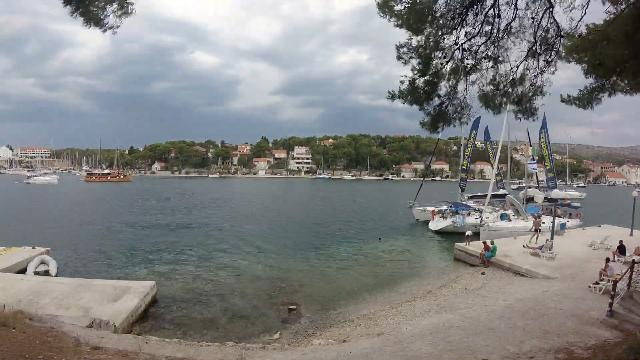Freighter: (80, 166, 138, 184)
Sailboat: (20, 171, 62, 187)
